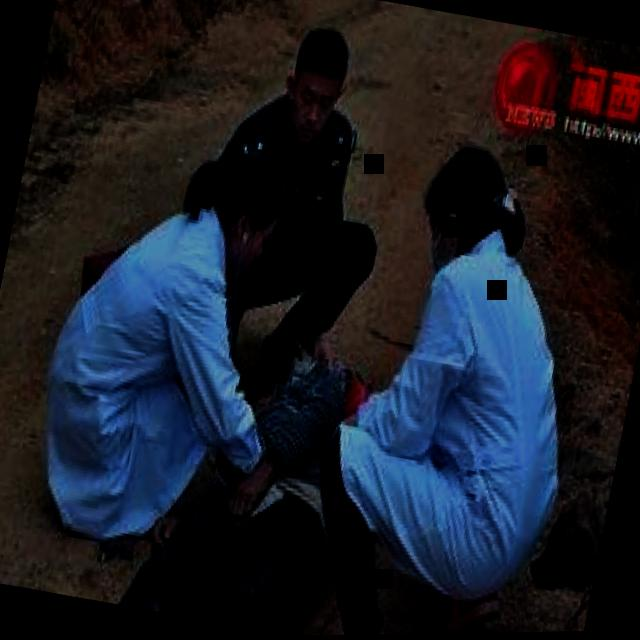Fall-Detected: (0, 268, 401, 640)
